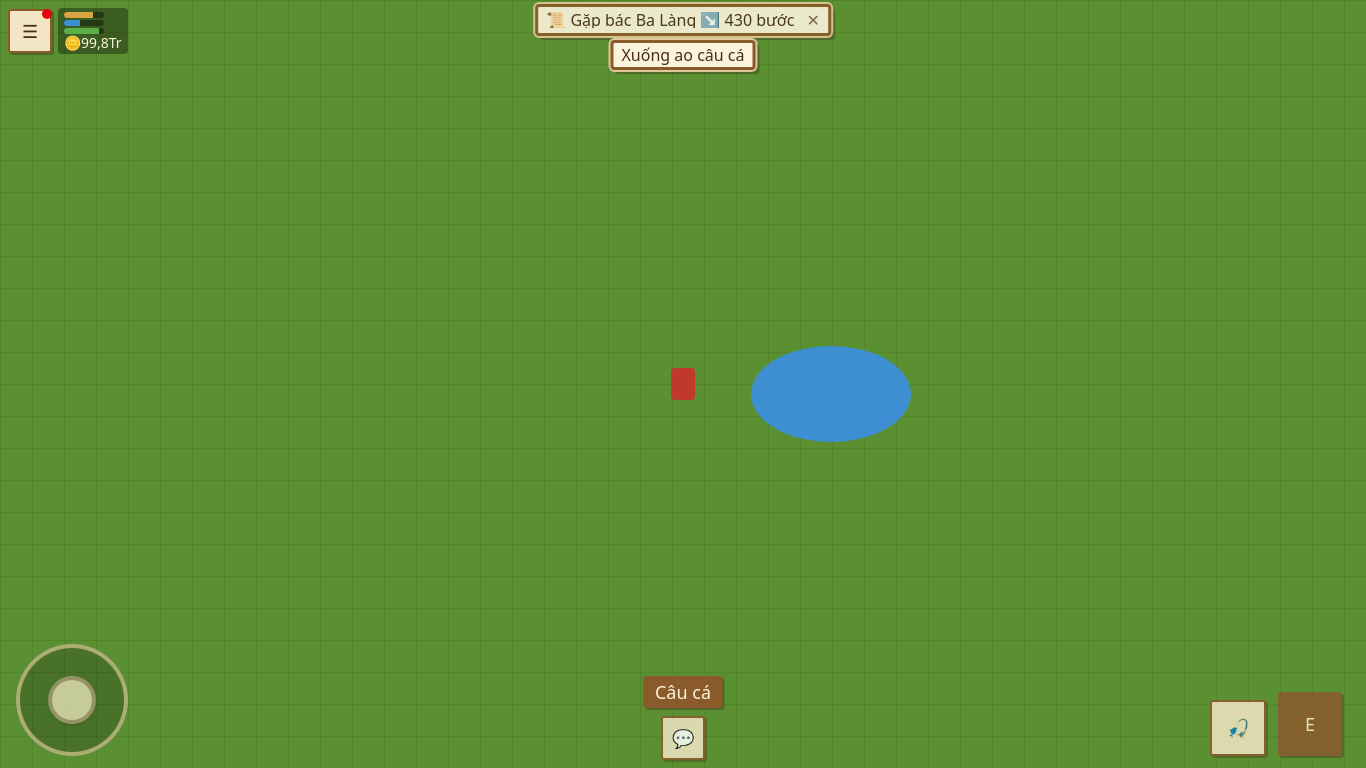
Test case: compact phone HUD › ☰ opens the drawer; tapping outside closes it; the stick hides meanwhile
This screenshot has width=1366, height=768.
Click the button with test id "mobile-menu-button".
click(30, 31)  # box top-left (8, 9), bottom-right (52, 53)
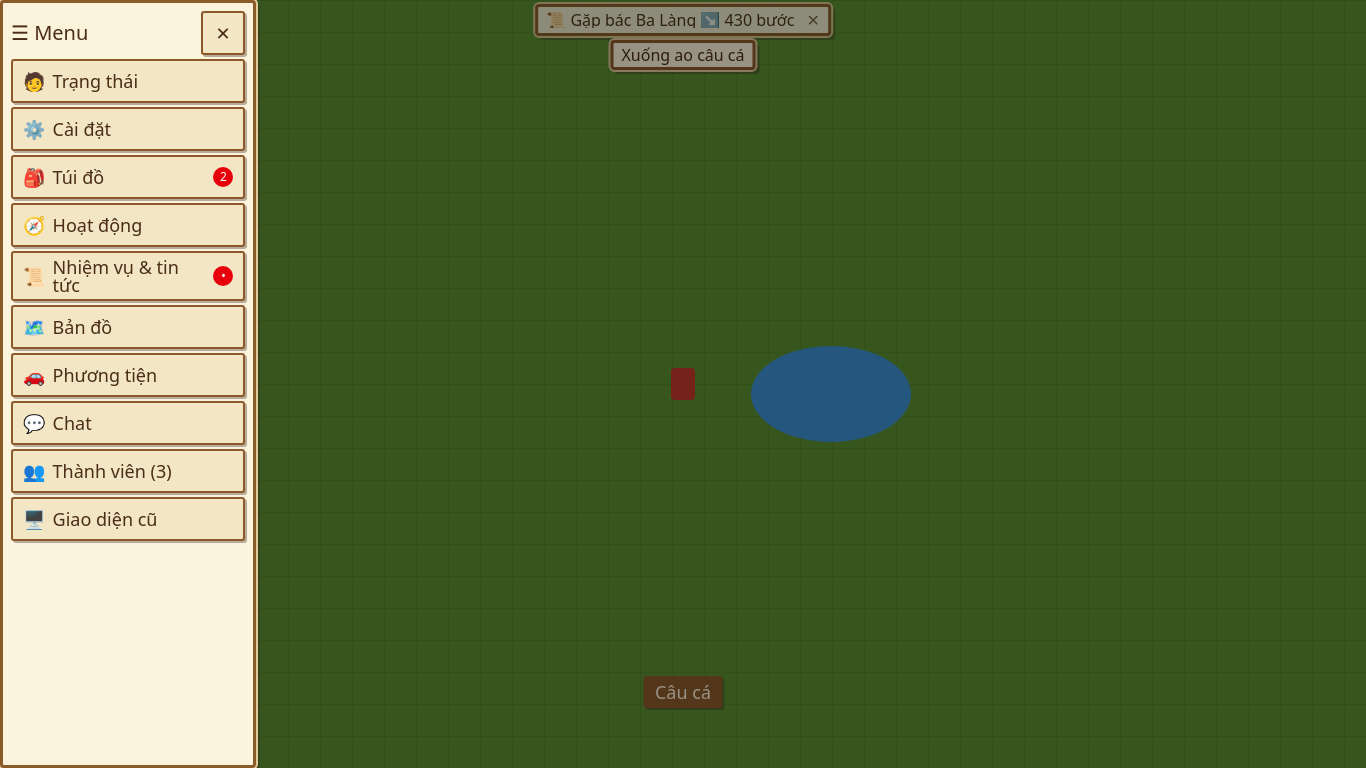
Now the navigation bar with test id "mobile-drawer" shows "Túi đồ", box top-left (11, 155), bottom-right (245, 199)
Now the element with test id "joystick" is gone
Click the button with test id "mobile-drawer-backdrop".
click(683, 384)  # box top-left (0, 0), bottom-right (1365, 767)
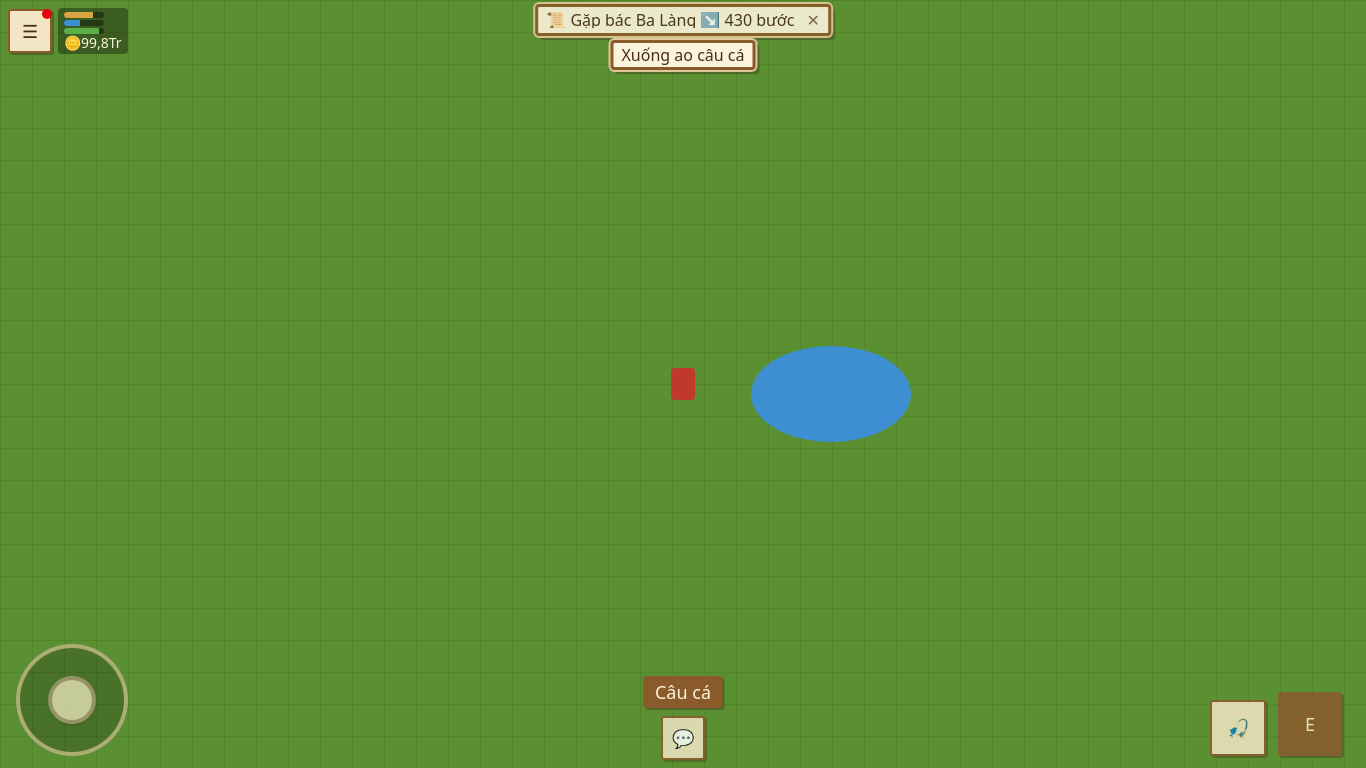
Now the navigation bar with test id "mobile-drawer" is gone
Now the element with test id "joystick" is shown, box top-left (16, 644), bottom-right (128, 756)
